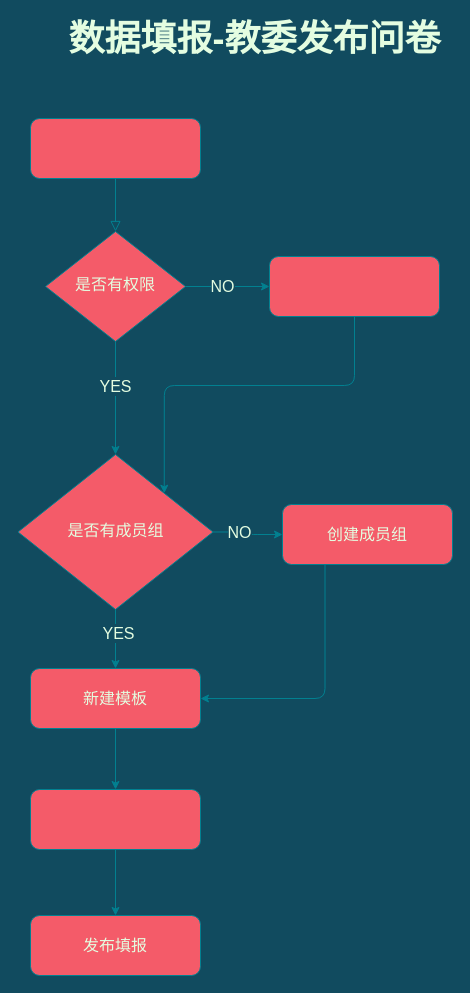
This 470x993 diagram has some shape labels left out. The shapes that lost their labels are listed below. From the top down, each one's centre as x and y in pixels, then its label:
[115,148]: 开始发布问卷调查
[354,286]: 单位管理员-后台-应用管理-权限设置-授权
[115,819]: 新建填报
